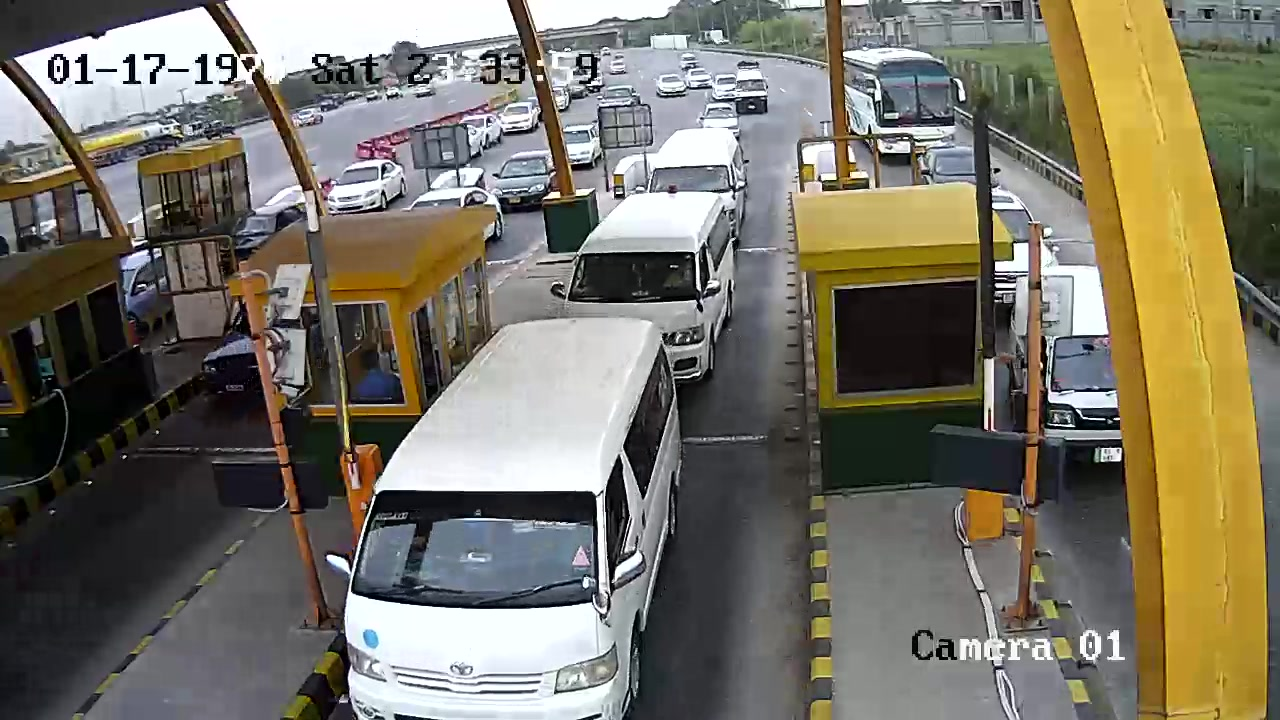F3: (342, 319, 684, 718)
